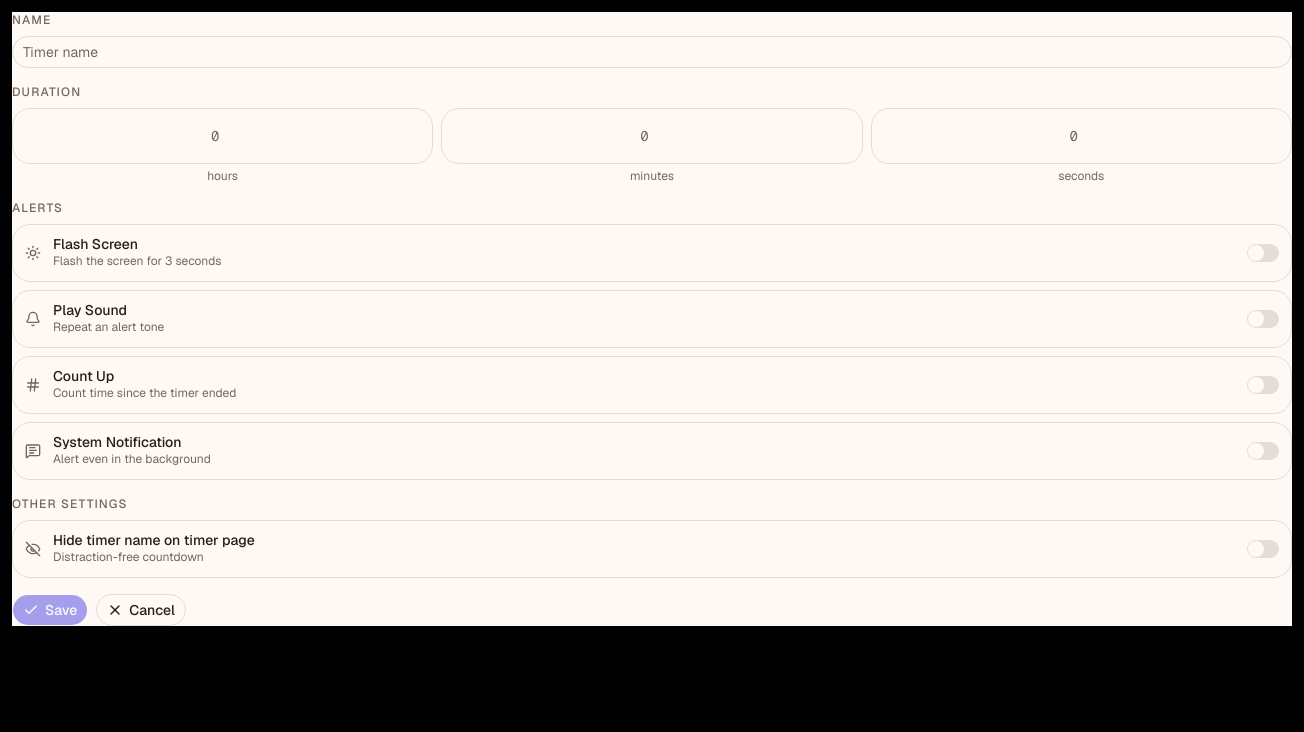
Test: TimerForm › validation gating › submit is enabled when name and duration are valid
This screenshot has width=1304, height=732.
Type "Test" into the field named "Timer name".
click(652, 52); type("Test")  # box [12,36,1292,68]
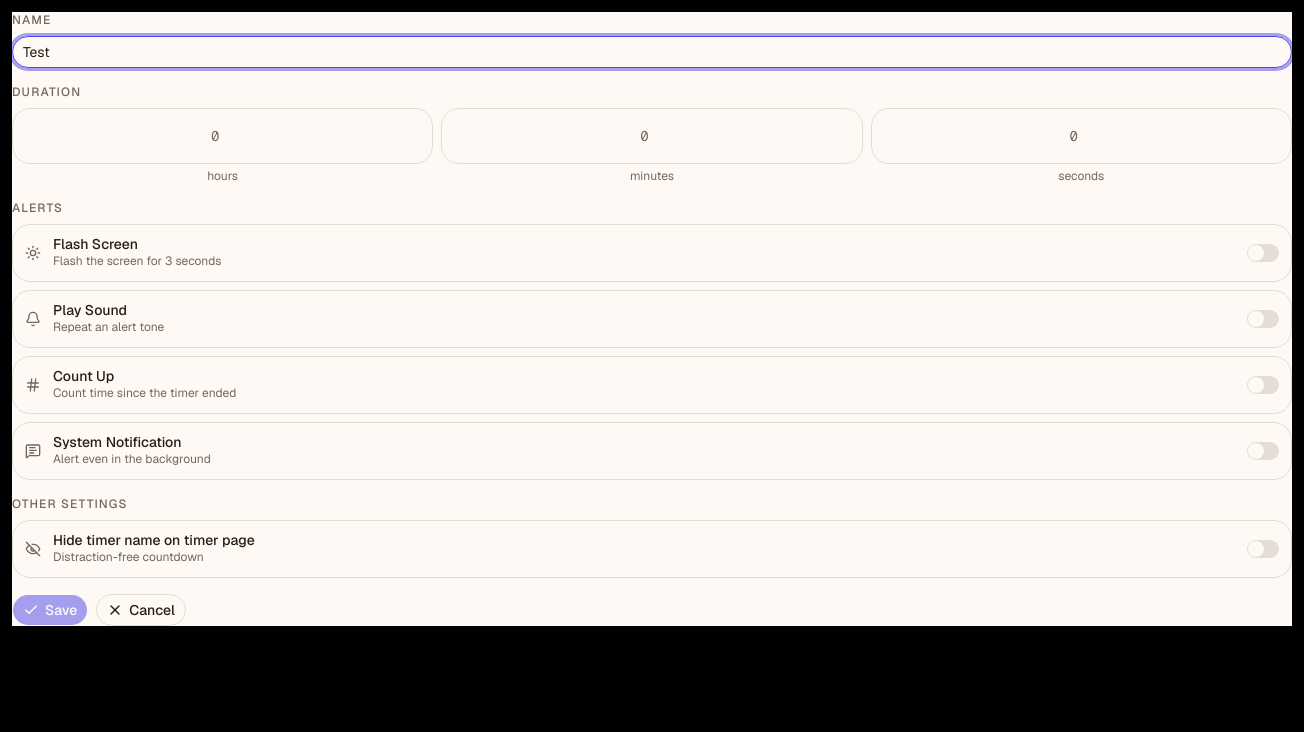
Type "5" into the number field labelled "minutes".
click(652, 136); type("5")  # box [441,108,863,164]
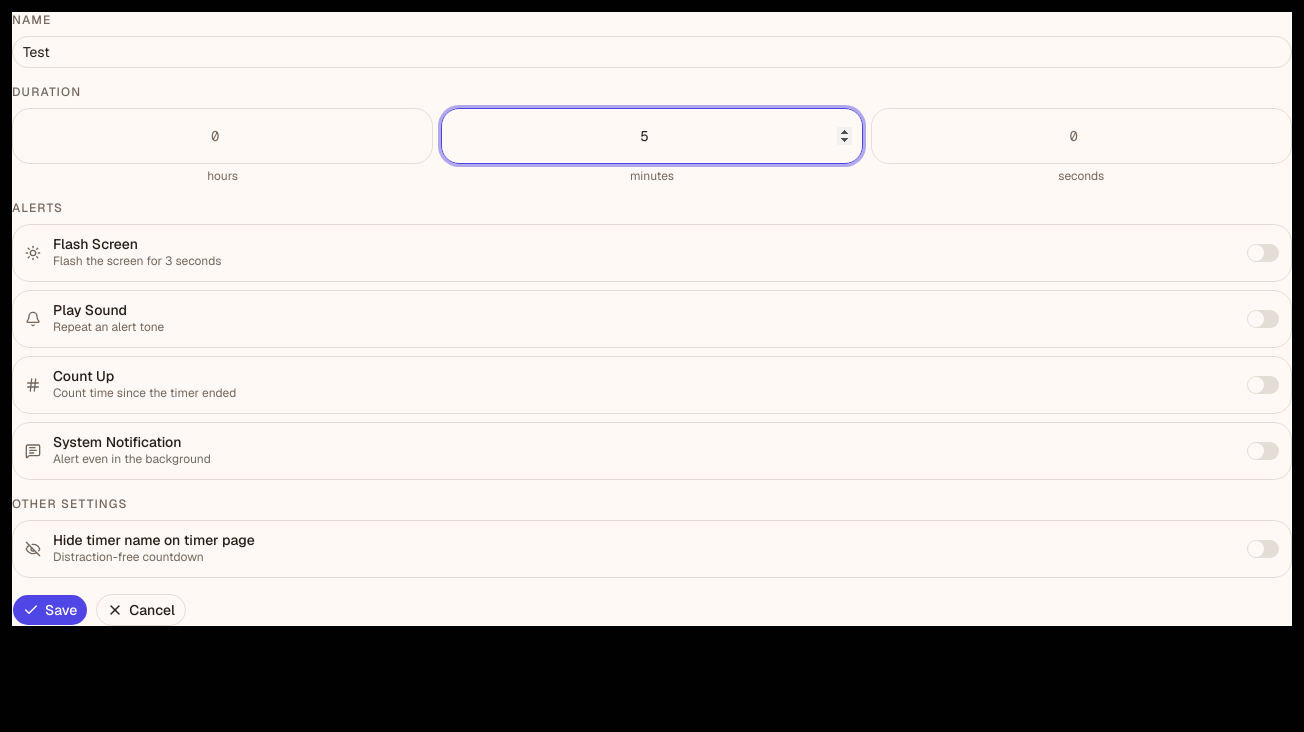
Now the button "Save" is enabled, box [12,594,88,626]
